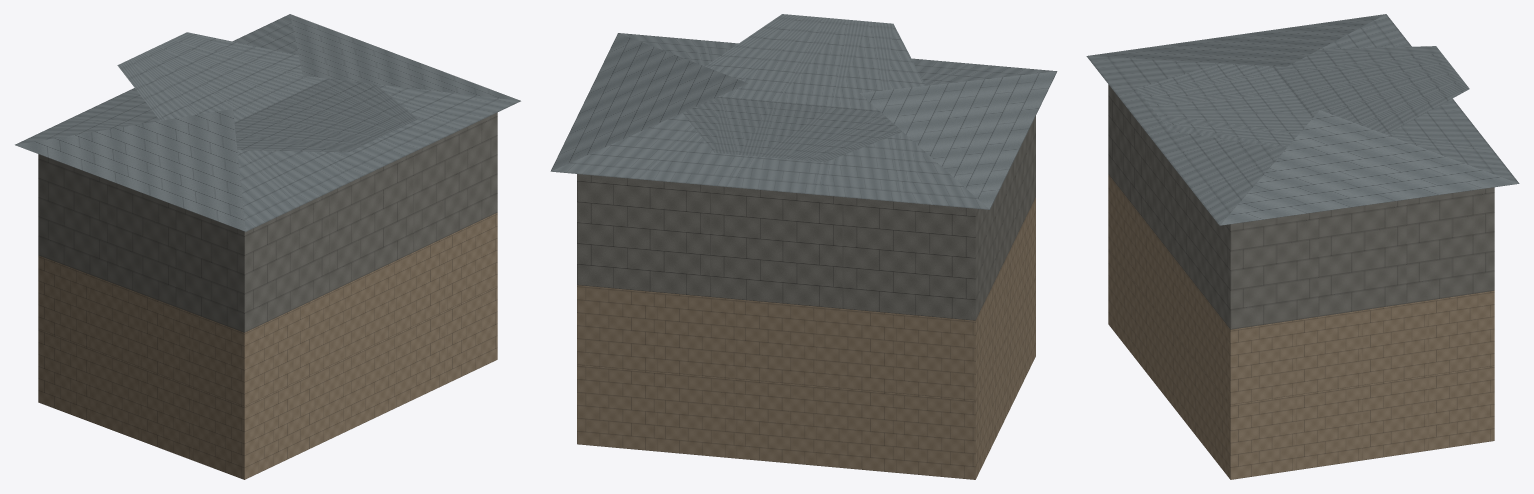
The model's file is bld_c20_45_397.gltf.
The picture shows the model from 3 angles, left to right: view 1: azimuth 30°, elevation 25°; view 2: azimuth 150°, elevation 25°; view 3: azimuth 270°, elevation 25°; orthographic projection. The views are drawn at different scales.
Parts seen in each view (by area): view 1: bld_c20_45_397; view 2: bld_c20_45_397; view 3: bld_c20_45_397.
Boxes of the visible parts, x1,y1,x2,y2 form: bld_c20_45_397: (15,14,520,479); bld_c20_45_397: (550,14,1057,479); bld_c20_45_397: (1086,14,1519,479).
Size of the model in its own units: 14.49 by 9.4 by 12.53.
3 materials, 3 textured.
